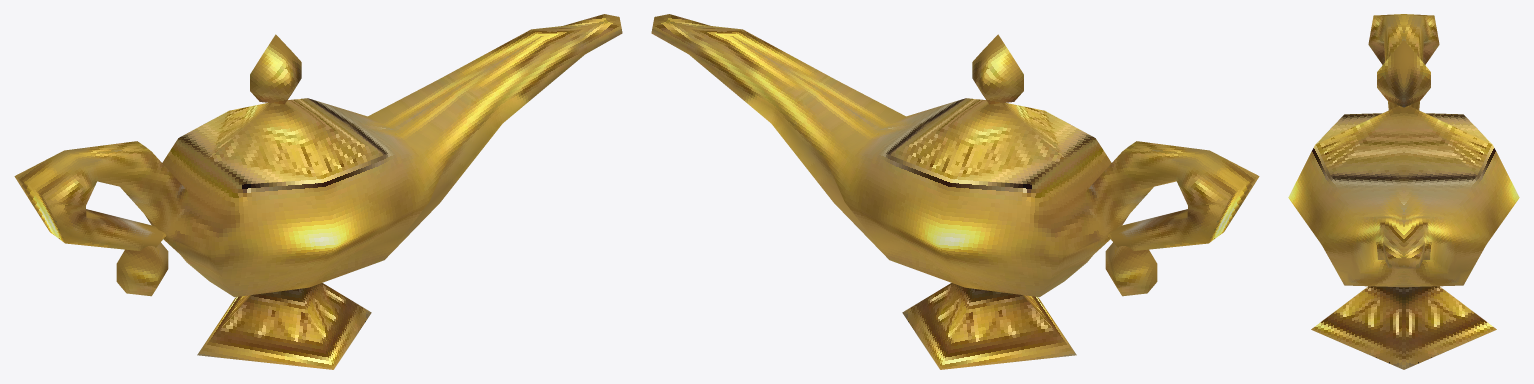
File: magic_lamp.glb
The picture shows the model from 3 angles, left to right: view 1: azimuth 30°, elevation 25°; view 2: azimuth 150°, elevation 25°; view 3: azimuth 270°, elevation 25°; orthographic projection. The views are drawn at different scales.
Visible parts, largest first — view 1: Object_2; view 2: Object_2; view 3: Object_2.
Boxes of the visible parts, <box> form: Object_2: <box>14,14,622,369</box>; Object_2: <box>651,14,1259,369</box>; Object_2: <box>1288,14,1519,369</box>.
Size of the model in its own units: 7.94 by 3.89 by 2.85.
1 material, 1 textured.
